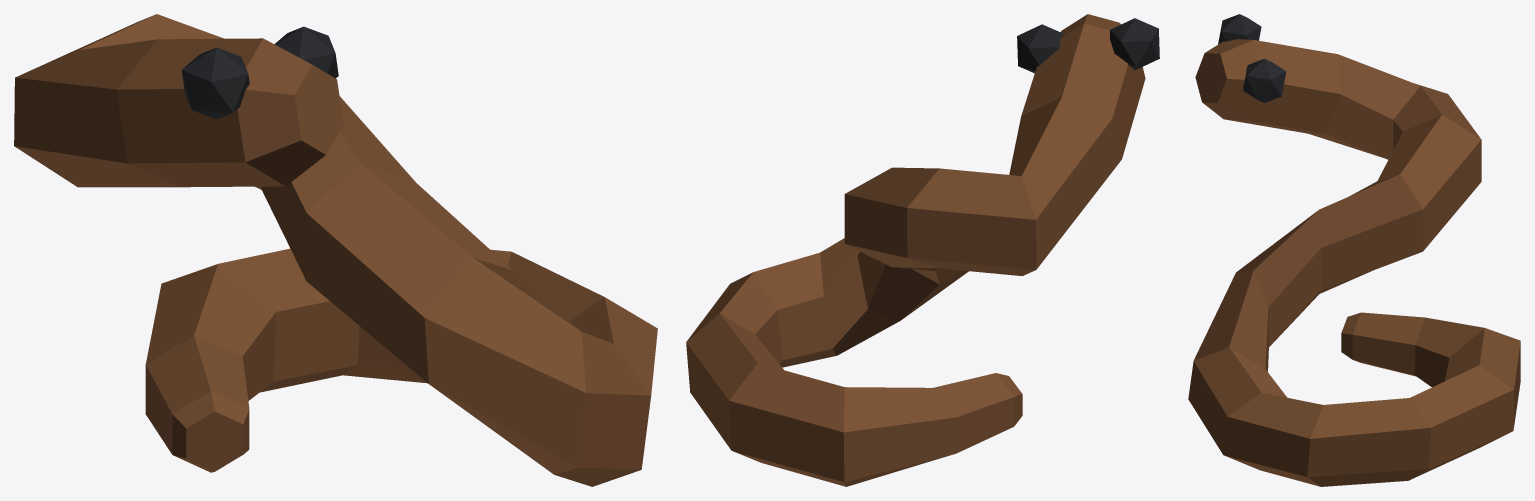
The model's file is cc0-worm-lod0.glb.
3 views of the same model, side by side, from view 1: azimuth 30°, elevation 25°; view 2: azimuth 150°, elevation 25°; view 3: azimuth 270°, elevation 25° (orthographic). The views are drawn at different scales.
Parts seen in each view (by area): view 1: part_0; view 2: part_0; view 3: part_0.
Part boxes in pixels (x1,y1,x2,y2): part_0: (14,14,657,486); part_0: (686,14,1159,486); part_0: (1188,14,1520,486).
Size of the model in its own units: 0.4947 by 0.4843 by 0.4315.
